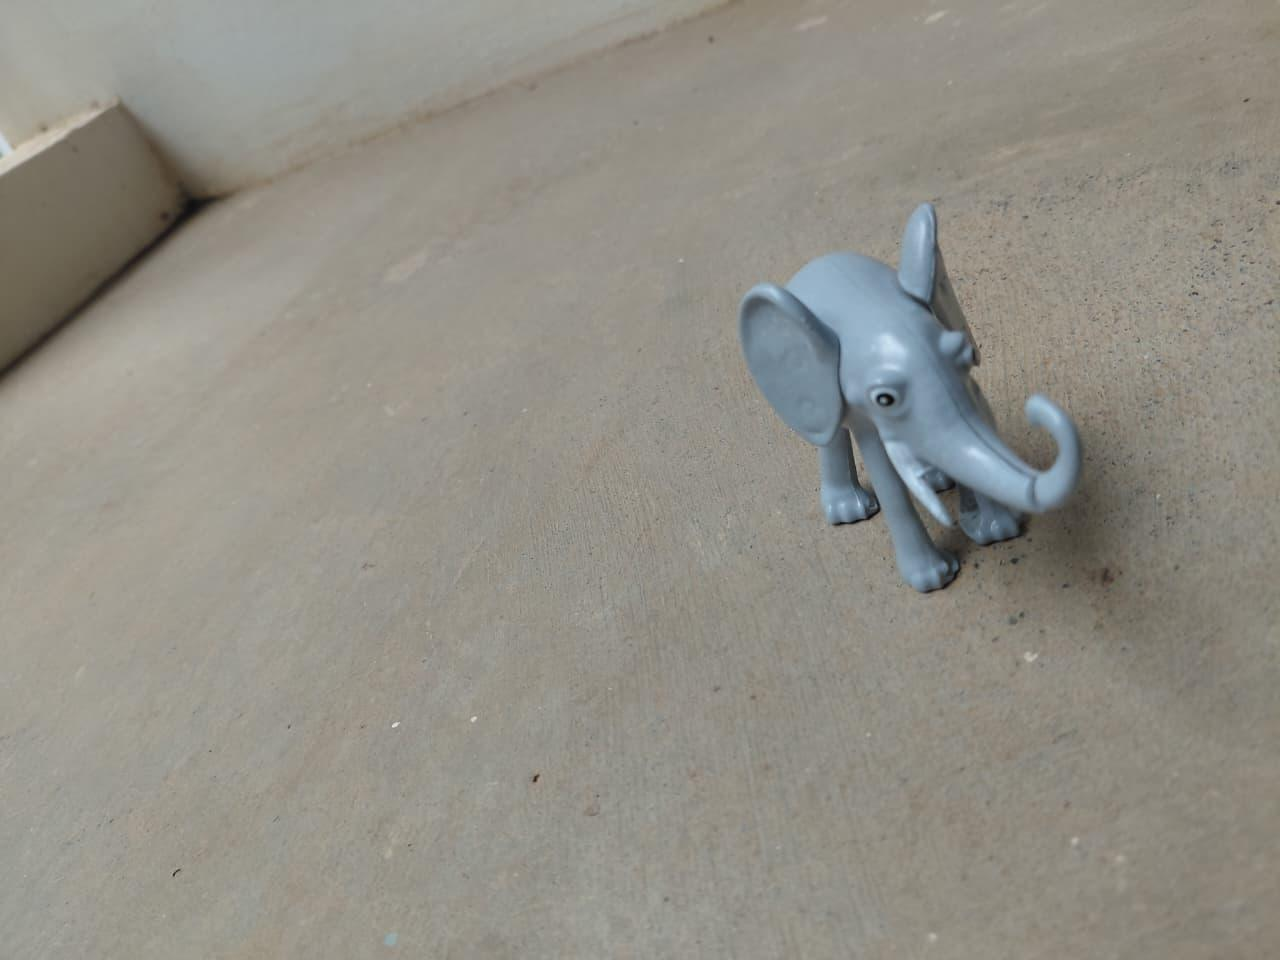elephant: (734, 203, 1086, 598)
